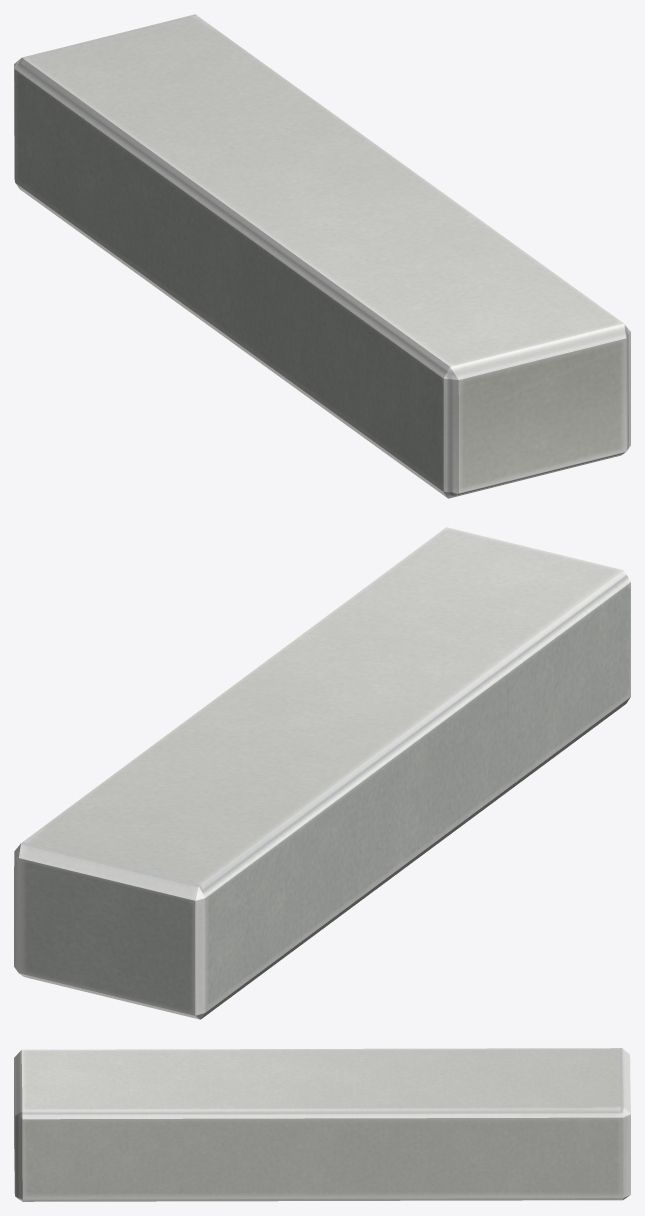
The model's file is pianoKey.fbx.
3 views of the same model, one above another, from view 1: azimuth 30°, elevation 25°; view 2: azimuth 150°, elevation 25°; view 3: azimuth 270°, elevation 25° (orthographic). The views are drawn at different scales.
Visible parts, largest first — view 1: pianoKey; view 2: pianoKey; view 3: pianoKey.
Part boxes in pixels (left/top/right/bottom): pianoKey: left=14, top=14, right=630, bottom=498; pianoKey: left=14, top=527, right=630, bottom=1019; pianoKey: left=14, top=1048, right=630, bottom=1201.
Size of the model in its own units: 4.37 by 2.85 by 17.1.
Materials: 1 (1 with a texture image).
